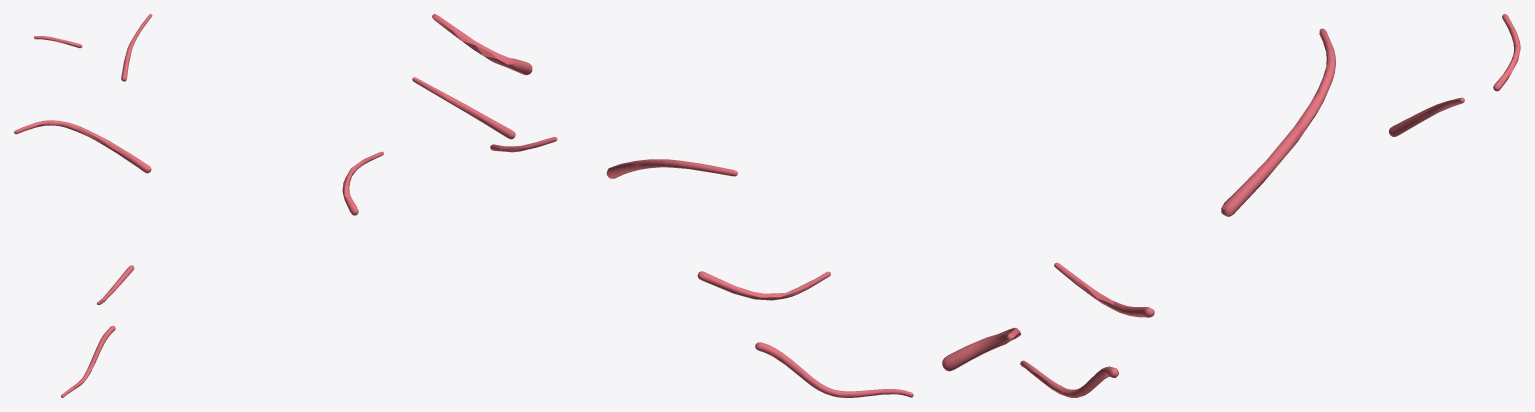
File: fma15423_fj3113.glb
The picture shows the model from 3 angles, left to right: view 1: azimuth 30°, elevation 25°; view 2: azimuth 150°, elevation 25°; view 3: azimuth 270°, elevation 25°; orthographic projection. The views are drawn at different scales.
Parts seen in each view (by area): view 1: FMA15423_FJ3113; view 2: FMA15423_FJ3113; view 3: FMA15423_FJ3113.
Boxes of the visible parts, x1,y1,x2,y2 form: FMA15423_FJ3113: (14,14,383,397); FMA15423_FJ3113: (412,14,913,397); FMA15423_FJ3113: (942,14,1520,397).
Size of the model in its own units: 0.085 by 0.0628 by 0.0722.
